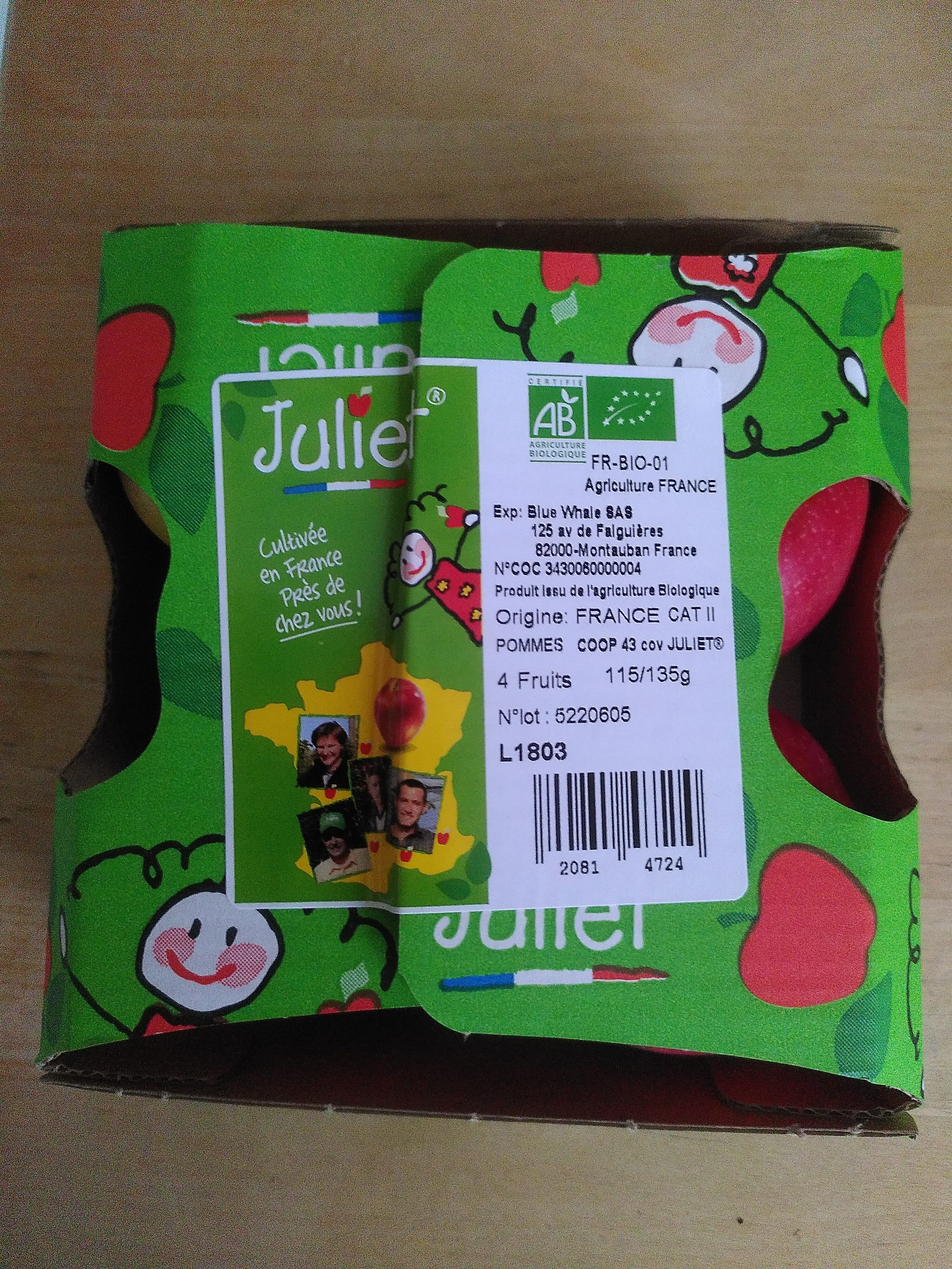Pomme Juliet: (48, 63, 904, 1206)
